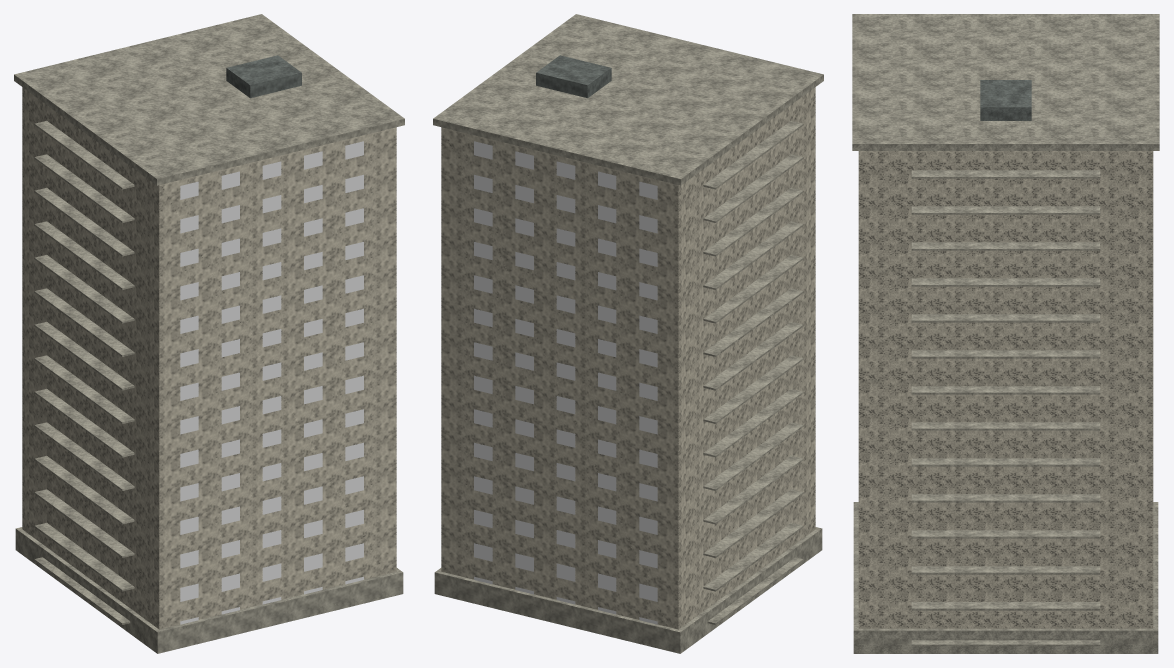
Rendered from Strategic_Apartment_Tower.fbx.
3 views of the same model, side by side, from view 1: azimuth 30°, elevation 25°; view 2: azimuth 150°, elevation 25°; view 3: azimuth 270°, elevation 25° (orthographic). The views are drawn at different scales.
Visible parts, largest first — view 1: Strategic_Apartment_Tower; view 2: Strategic_Apartment_Tower; view 3: Strategic_Apartment_Tower.
Part boxes in pixels (x1=…): Strategic_Apartment_Tower: x1=14, y1=14, x2=404, y2=653; Strategic_Apartment_Tower: x1=433, y1=14, x2=823, y2=653; Strategic_Apartment_Tower: x1=852, y1=14, x2=1159, y2=653.
Size of the model in its own units: 2540 by 4520 by 2400.
